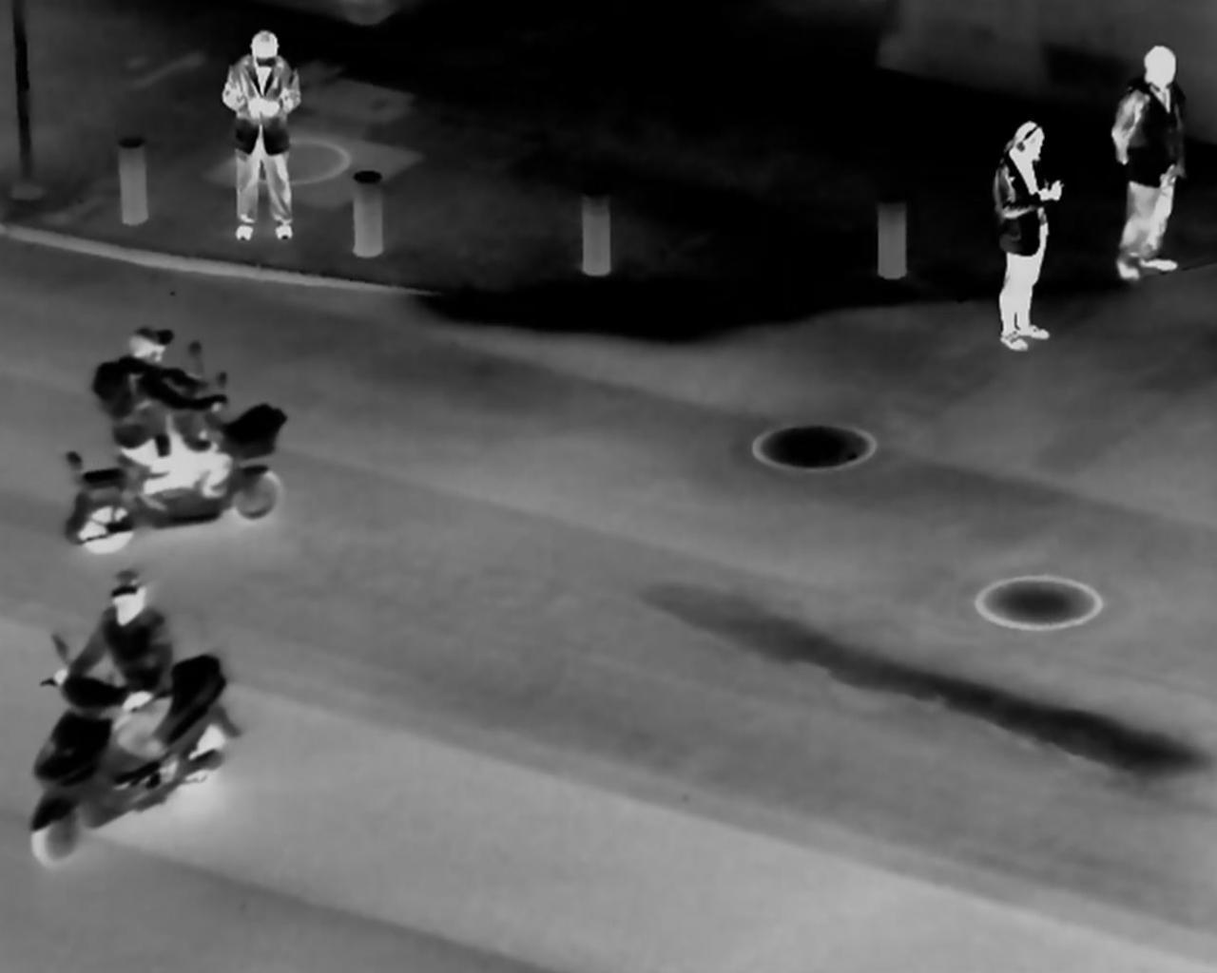person: (47, 568, 195, 801), (85, 315, 237, 513), (1102, 29, 1191, 282), (210, 26, 314, 242), (985, 101, 1065, 362)
